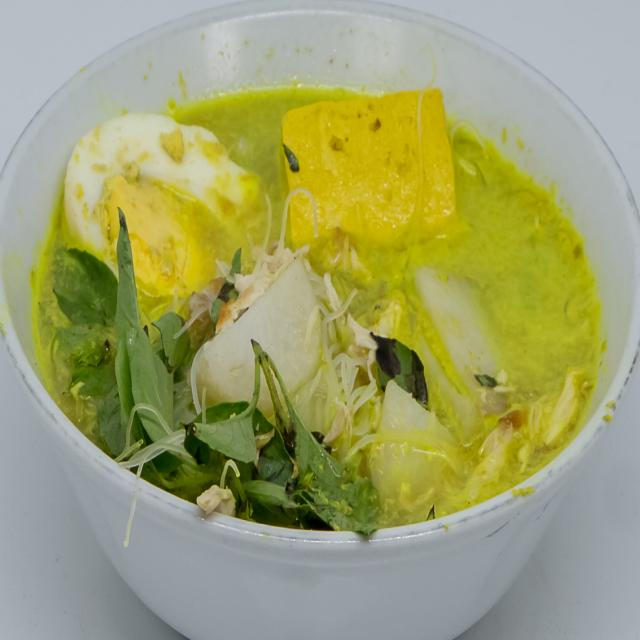Laksa-Bogor: (41, 53, 609, 560)
